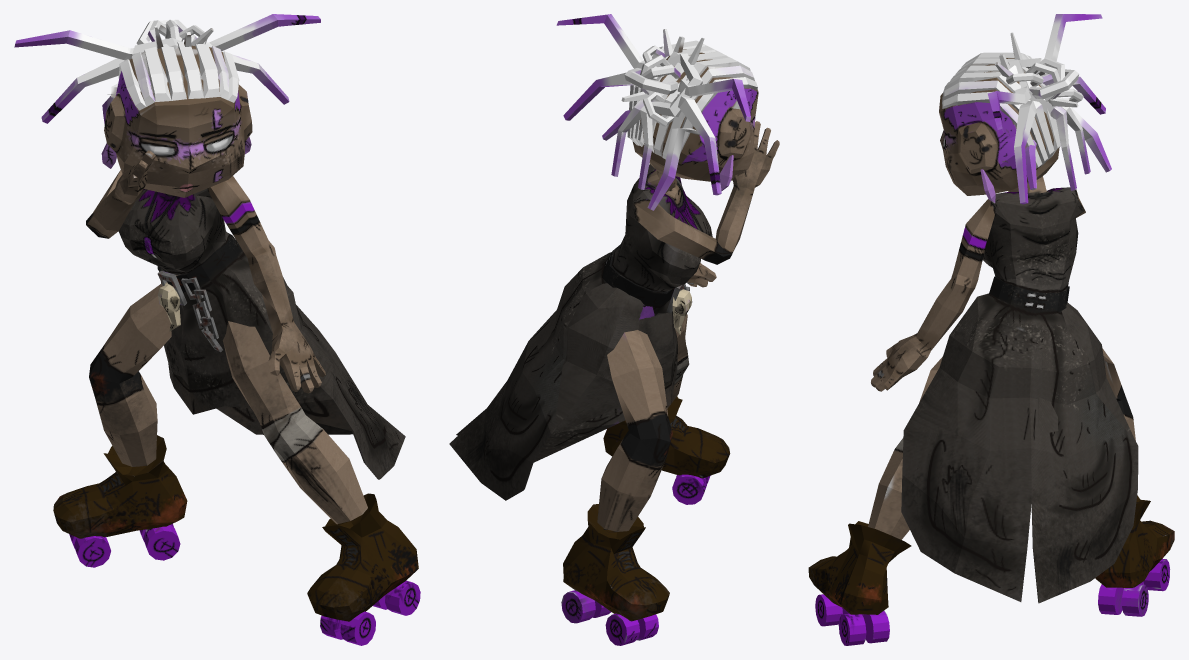
Rendered from bruja_000002.obj.
3 renders of one model, left to right at view 1: azimuth 30°, elevation 25°; view 2: azimuth 150°, elevation 25°; view 3: azimuth 270°, elevation 25°, orthographic. The views are drawn at different scales.
Parts seen in each view (by area): view 1: Bruja_Plane.001; view 2: Bruja_Plane.001; view 3: Bruja_Plane.001.
Boxes of the visible parts, box(x1,y1,x2,y2) form: Bruja_Plane.001: box(14, 14, 420, 645); Bruja_Plane.001: box(449, 14, 779, 645); Bruja_Plane.001: box(808, 14, 1174, 645).
Size of the model in its own units: 9.71 by 15.49 by 9.26.
